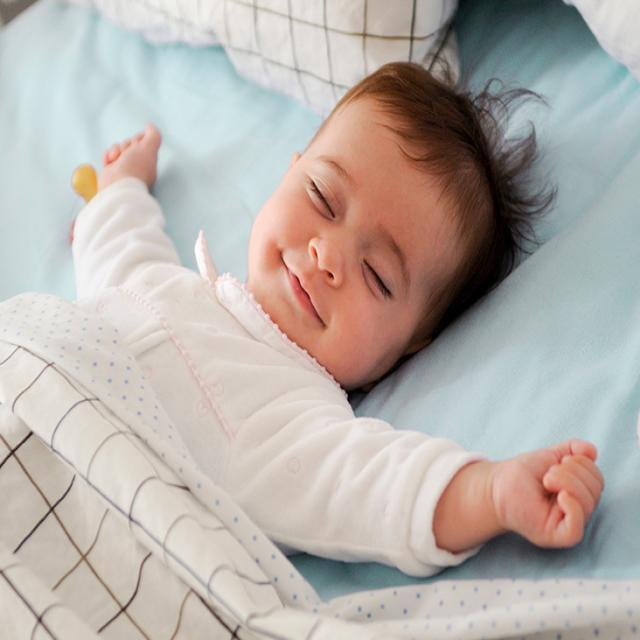non-dog: (58, 63, 606, 567)
